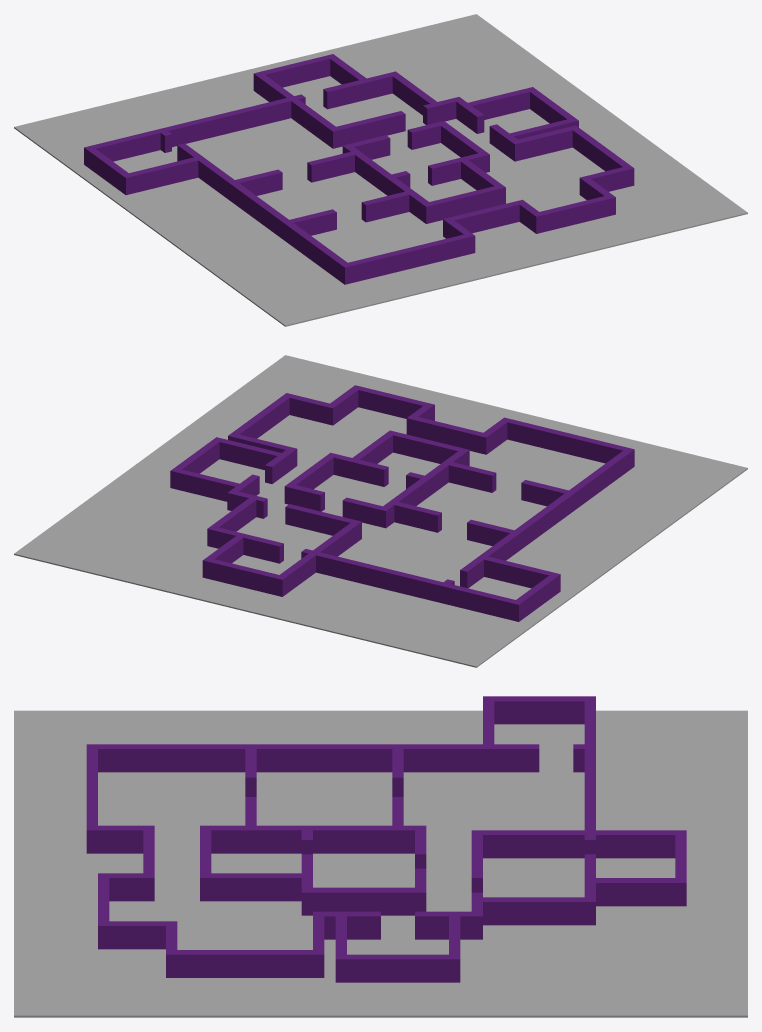
File: Game_Scenery V4.fbx
3 views of the same model, one above another, from view 1: azimuth 30°, elevation 25°; view 2: azimuth 150°, elevation 25°; view 3: azimuth 270°, elevation 25° (orthographic). The views are drawn at different scales.
Visible parts, largest first — view 1: Floor, Wall39, Wall40, Wall20, Wall26, Wall35, Wall16, Wall30, Wall, Wall23, Wall25, Wall36 (+24 smaller); view 2: Floor, Wall39, Wall40, Wall20, Wall30, Wall26, Wall35, Wall16, Wall36, Wall8, Wall, Wall23 (+25 smaller); view 3: Floor, Wall40, Wall25, Wall18, Wall3, Wall7, Wall13, Wall52, Wall51, Wall6, Wall33, Wall31 (+19 smaller).
Boxes of the visible parts, bbox=[...] form: Floor: bbox=[14, 14, 747, 326]; Wall39: bbox=[84, 94, 305, 167]; Wall40: bbox=[177, 143, 347, 281]; Wall20: bbox=[340, 233, 475, 284]; Wall26: bbox=[532, 194, 615, 233]; Wall35: bbox=[121, 157, 198, 195]; Wall16: bbox=[323, 71, 399, 109]; Wall30: bbox=[253, 54, 336, 93]; Wall: bbox=[336, 111, 405, 146]; Wall23: bbox=[429, 186, 498, 222]; Wall25: bbox=[572, 128, 634, 187]; Wall36: bbox=[450, 201, 519, 233]; Floor: bbox=[14, 355, 747, 667]; Wall39: bbox=[301, 549, 522, 621]; Wall40: bbox=[460, 450, 630, 588]; Wall20: bbox=[500, 417, 634, 468]; Wall30: bbox=[202, 557, 286, 596]; Wall26: bbox=[351, 385, 434, 420]; Wall35: bbox=[484, 556, 560, 593]; Wall16: bbox=[207, 526, 283, 563]; Wall36: bbox=[414, 417, 482, 452]; Wall8: bbox=[170, 468, 239, 501]; Wall: bbox=[285, 504, 354, 535]; Wall23: bbox=[393, 432, 461, 463]; Floor: bbox=[14, 710, 747, 1017]; Wall40: bbox=[98, 744, 539, 772]; Wall25: bbox=[166, 950, 312, 977]; Wall18: bbox=[471, 830, 584, 858]; Wall3: bbox=[313, 825, 414, 853]; Wall7: bbox=[347, 954, 448, 982]; Wall13: bbox=[483, 897, 584, 925]; Wall52: bbox=[200, 873, 301, 901]; Wall51: bbox=[200, 825, 301, 853]; Wall6: bbox=[313, 887, 414, 915]; Wall33: bbox=[494, 696, 584, 724]; Wall31: bbox=[596, 878, 675, 906].
Bounding box in the file's own units: 6382 × 245 × 6485.
